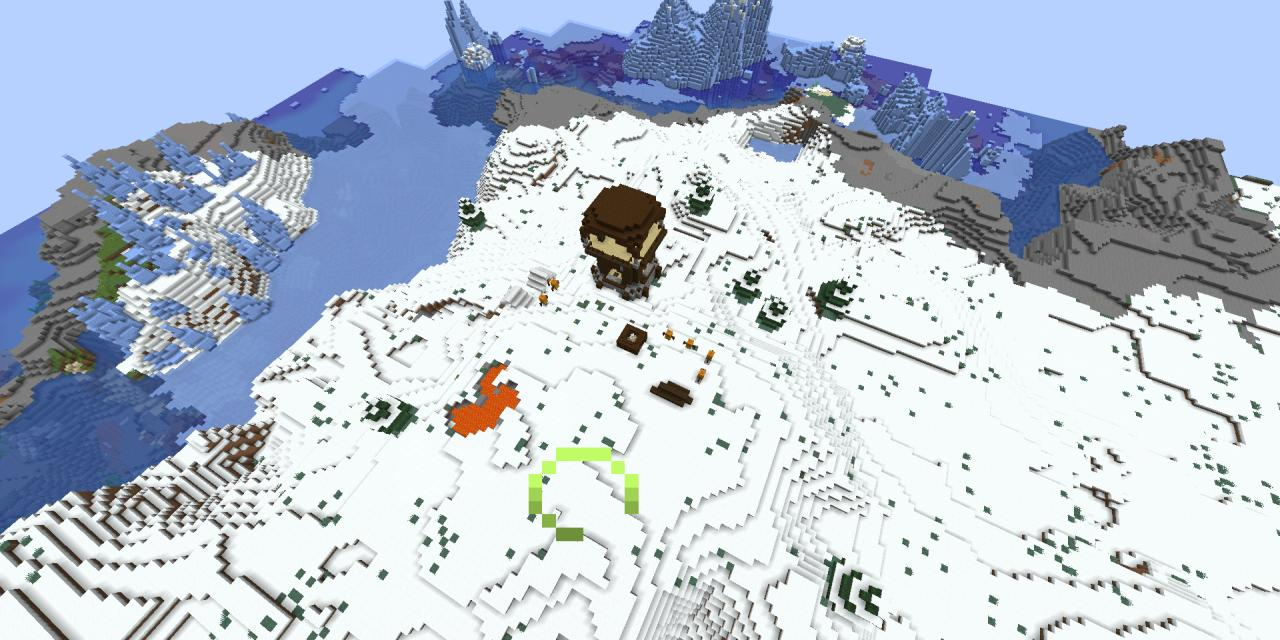pillager outpost: (568, 175, 676, 301)
